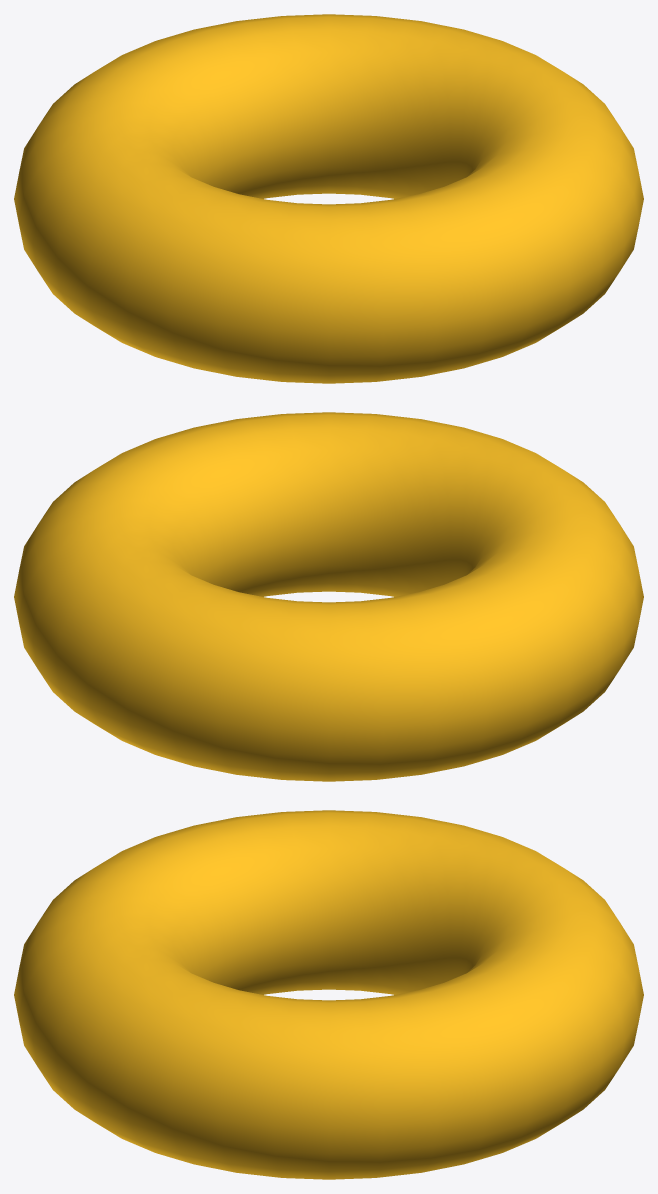
3 views of the same model, one above another, from view 1: azimuth 30°, elevation 25°; view 2: azimuth 150°, elevation 25°; view 3: azimuth 270°, elevation 25° (orthographic).
Visible parts, largest first — view 1: Torus; view 2: Torus; view 3: Torus.
Part boxes in pixels (x1,y1,x2,y2): Torus: (14, 14, 643, 383); Torus: (14, 412, 643, 781); Torus: (14, 810, 643, 1179).
Size of the model in its own units: 14 by 3.94 by 14.
